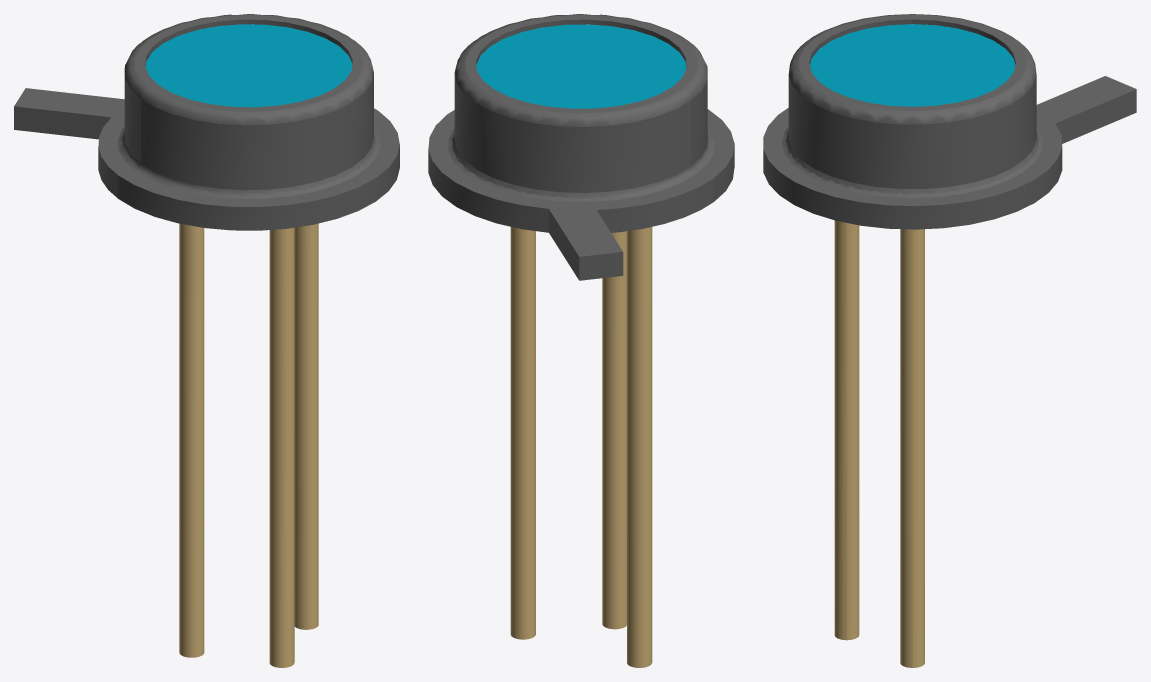
Rendered from kc-to-46-3_window.glb.
The picture shows the model from 3 angles, left to right: view 1: azimuth 30°, elevation 25°; view 2: azimuth 150°, elevation 25°; view 3: azimuth 270°, elevation 25°; orthographic projection. The views are drawn at different scales.
Visible parts, largest first — view 1: 0.16666666666666666_0.16666666666666666_0.16666666666666666_, 0.75_0.5_0.25_0.9, 0_0.3333333333333333_0.5_0; view 2: 0.16666666666666666_0.16666666666666666_0.16666666666666666_, 0.75_0.5_0.25_0.9, 0_0.3333333333333333_0.5_0; view 3: 0.16666666666666666_0.16666666666666666_0.16666666666666666_, 0.75_0.5_0.25_0.9, 0_0.3333333333333333_0.5_0.
Boxes of the visible parts, x1,y1,x2,y2 form: 0.16666666666666666_0.16666666666666666_0.16666666666666666_: [14, 14, 399, 230]; 0.75_0.5_0.25_0.9: [179, 223, 318, 667]; 0_0.3333333333333333_0.5_0: [145, 24, 352, 107]; 0.16666666666666666_0.16666666666666666_0.16666666666666666_: [428, 14, 734, 280]; 0.75_0.5_0.25_0.9: [510, 227, 652, 667]; 0_0.3333333333333333_0.5_0: [476, 24, 686, 108]; 0.16666666666666666_0.16666666666666666_0.16666666666666666_: [763, 14, 1136, 229]; 0.75_0.5_0.25_0.9: [834, 220, 924, 667]; 0_0.3333333333333333_0.5_0: [810, 24, 1015, 106].
Size of the model in its own units: 0.5964 by 1.22 by 0.7225.
